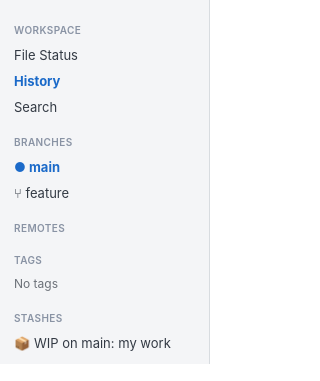
Sidebar stash context menu › shows apply/pop/view-diff/drop for a stash
This screenshot has width=320, height=381.
Right-click the text "📦 WIP on main: my work" at (92, 343), box left=14, top=335, right=171, bottom=351
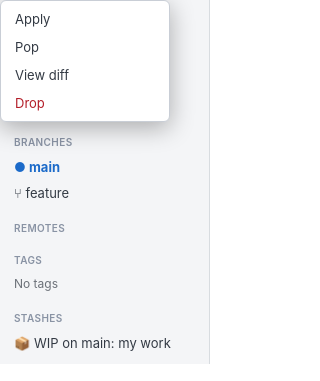
Result: the text "Apply" is shown at left=15, top=11, right=50, bottom=27
Result: the text "Pop" is shown at left=15, top=39, right=39, bottom=55
Result: the text "View diff" is shown at left=15, top=67, right=69, bottom=83
